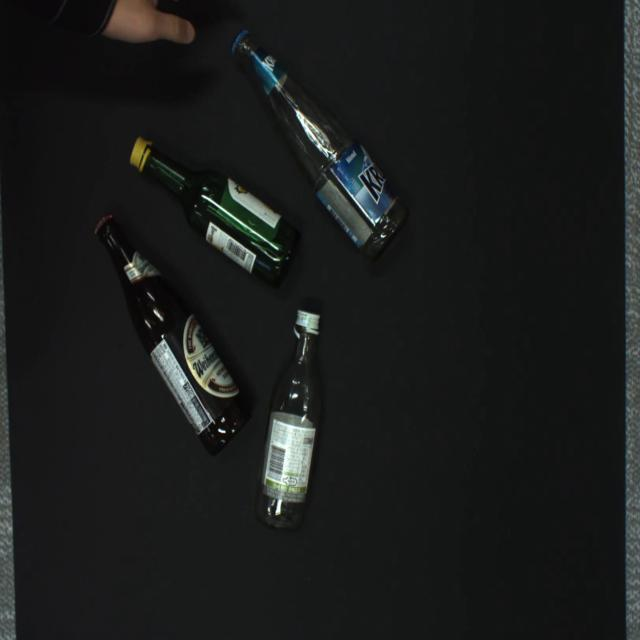beer-bottle: (231, 28, 409, 263), (95, 215, 250, 455)
soju-bottle: (130, 138, 300, 287), (254, 310, 321, 531)
